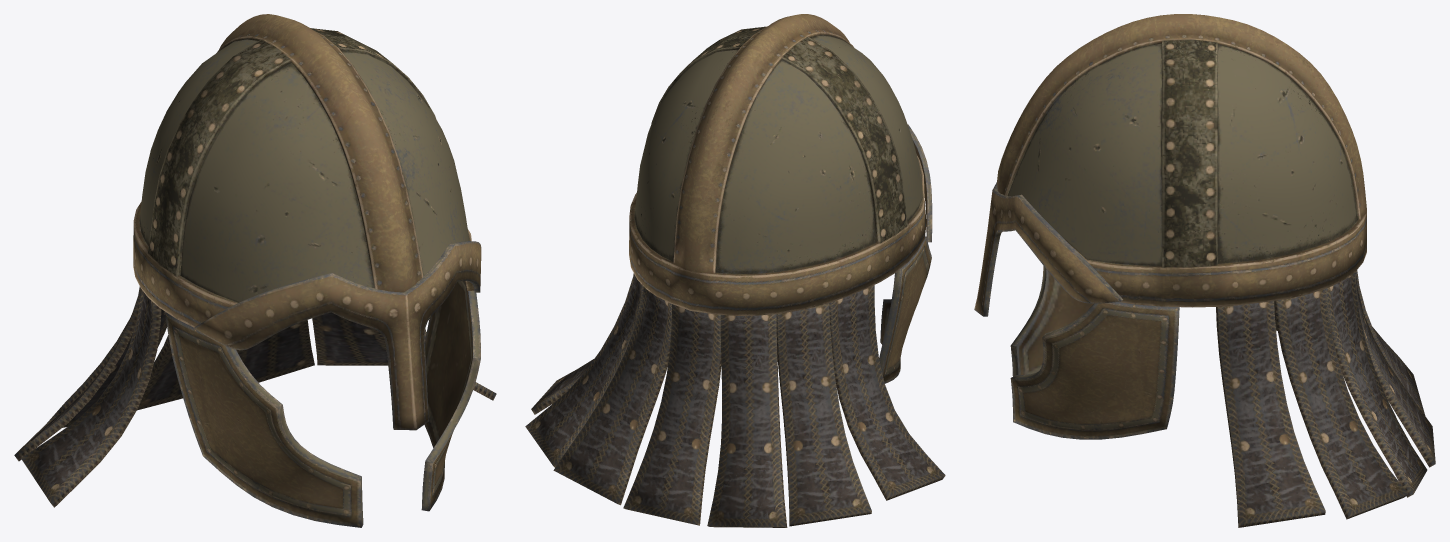
Rendered from dunland_wulf_helmet_heavy_e.fbx.
3 renders of one model, left to right at view 1: azimuth 30°, elevation 25°; view 2: azimuth 150°, elevation 25°; view 3: azimuth 270°, elevation 25°, orthographic. The views are drawn at different scales.
Parts seen in each view (by area): view 1: dunland_wulf_helmet_heavy_e; view 2: dunland_wulf_helmet_heavy_e; view 3: dunland_wulf_helmet_heavy_e.
Boxes of the visible parts, left/top/right/bottom form: dunland_wulf_helmet_heavy_e: left=14, top=14, right=496, bottom=527; dunland_wulf_helmet_heavy_e: left=525, top=14, right=945, bottom=527; dunland_wulf_helmet_heavy_e: left=974, top=14, right=1435, bottom=527.
Size of the model in its own units: 0.3217 by 0.3109 by 0.3243.
1 material, 1 textured.
